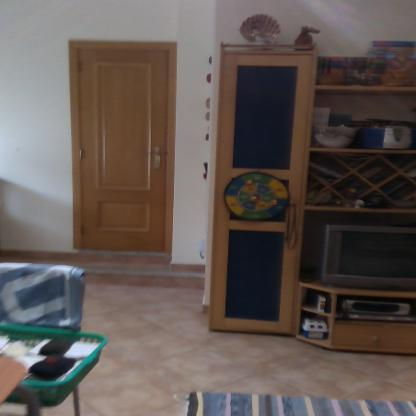door: (77, 46, 174, 252)
hinged: (76, 60, 82, 72), (78, 148, 82, 160), (80, 222, 84, 234)
lever: (142, 151, 163, 156)
